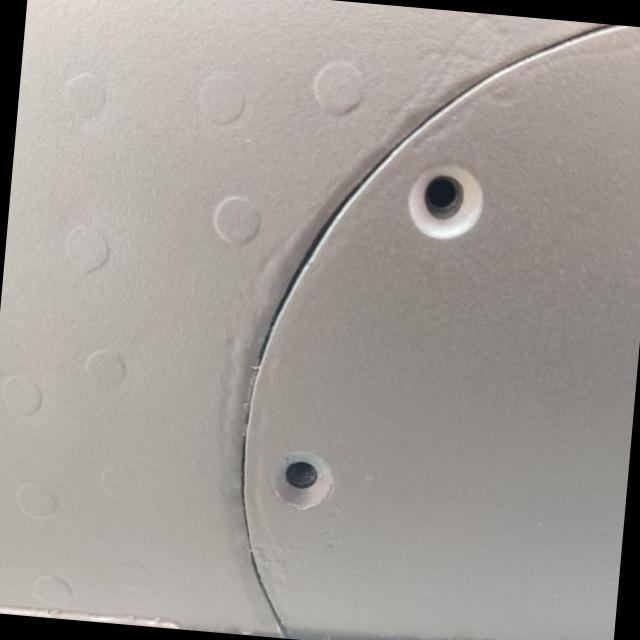Fastener Damage: (360, 123, 530, 294), (223, 398, 380, 558)
